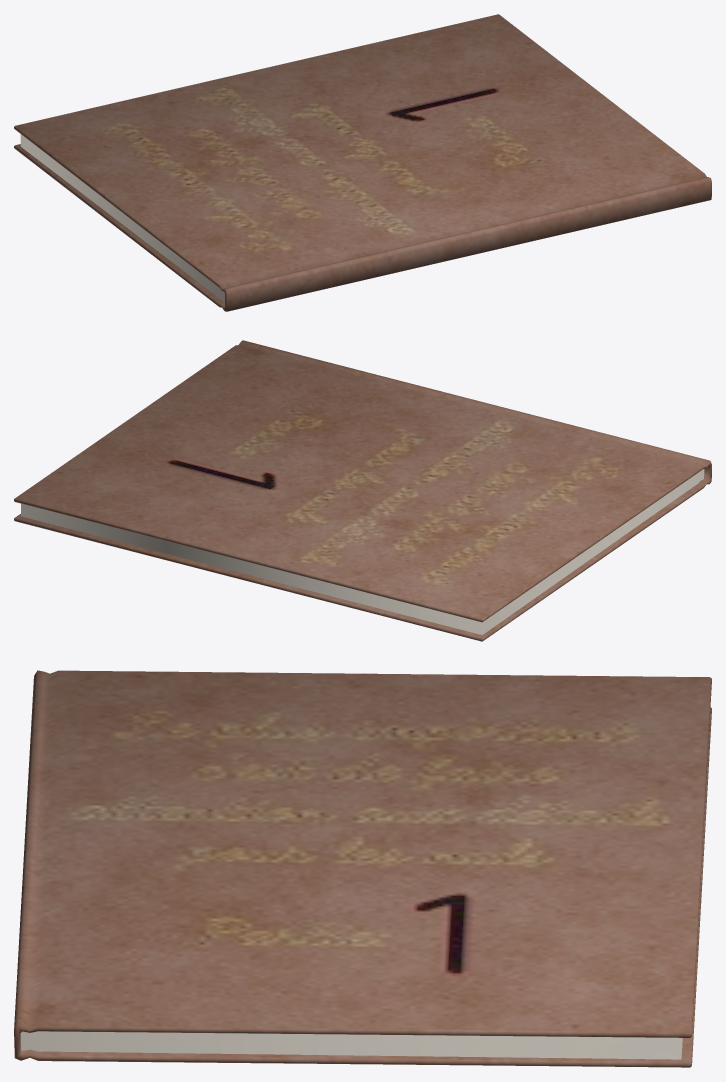
The model's file is Livre.FBX.
3 renders of one model, top to bottom at view 1: azimuth 30°, elevation 25°; view 2: azimuth 150°, elevation 25°; view 3: azimuth 270°, elevation 25°, orthographic. The views are drawn at different scales.
Parts seen in each view (by area): view 1: AM134_15_book_15; view 2: AM134_15_book_15; view 3: AM134_15_book_15.
Part boxes in pixels (x1,y1,x2,y2): AM134_15_book_15: (14,14,711,311); AM134_15_book_15: (14,340,711,641); AM134_15_book_15: (14,670,711,1067).
Bounding box in the file's own units: 34.72 × 1.57 × 28.18.
Materials: 1 (1 with a texture image).
